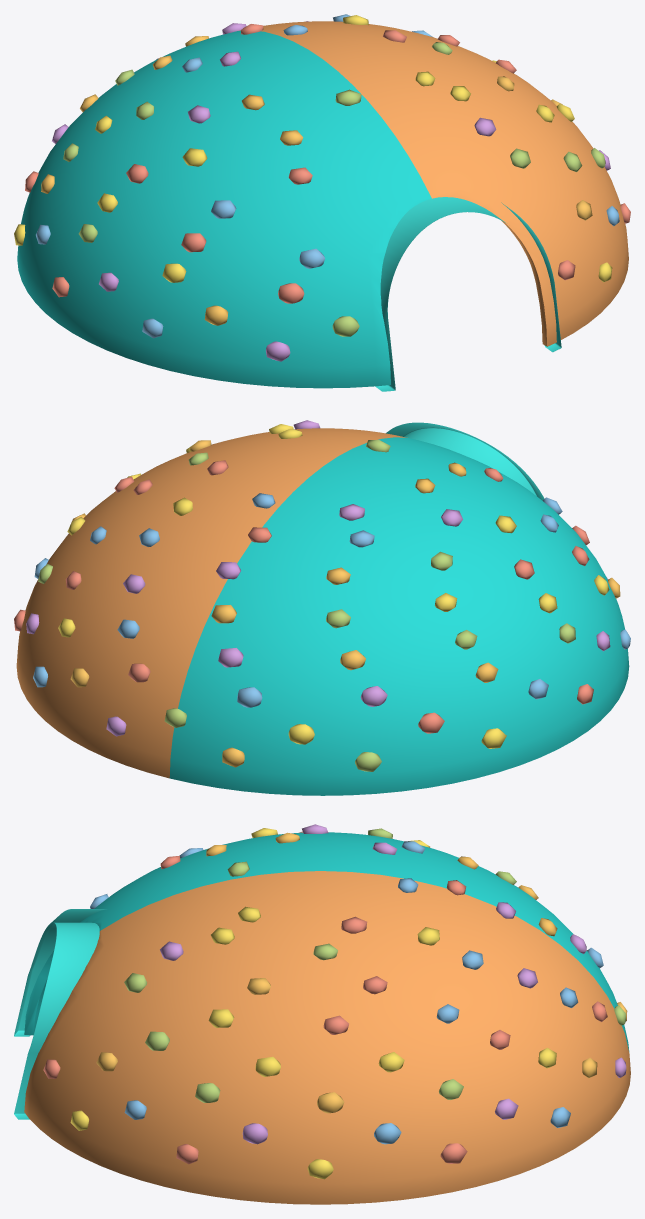
File: playground_dome.glb
3 renders of one model, top to bottom at view 1: azimuth 30°, elevation 25°; view 2: azimuth 150°, elevation 25°; view 3: azimuth 270°, elevation 25°, orthographic.
Visible parts, largest first — view 1: playground_dome, entrance_hood; view 2: playground_dome, entrance_hood; view 3: playground_dome, entrance_hood.
Part boxes in pixels (x1,y1,x2,y2): playground_dome: (17, 21, 628, 388); entrance_hood: (375, 197, 561, 391); playground_dome: (16, 428, 629, 795); entrance_hood: (386, 422, 544, 500); playground_dome: (24, 832, 630, 1204); entrance_hood: (14, 909, 106, 1119).
Size of the model in its own units: 3.84 by 1.39 by 3.78.
